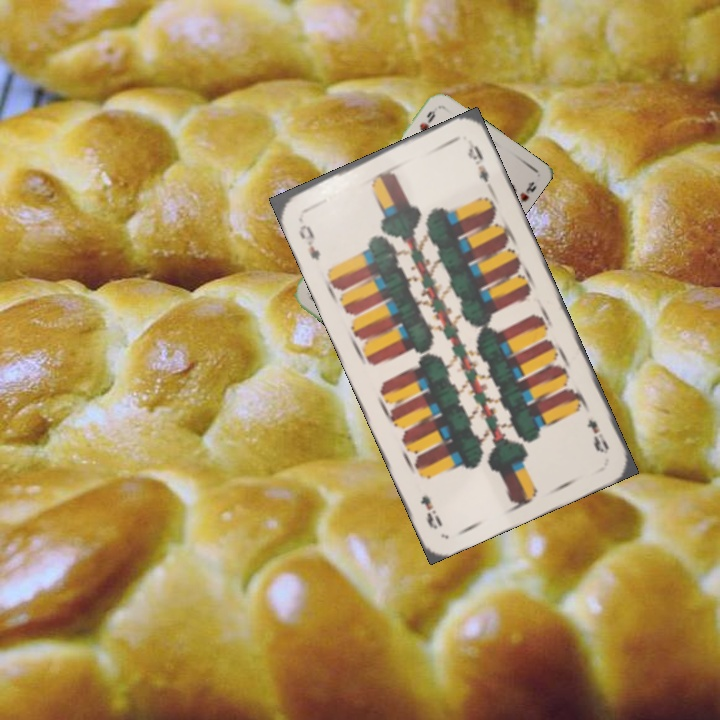E9: (294, 220, 323, 264), (583, 415, 612, 457)
H9: (415, 106, 438, 134)
